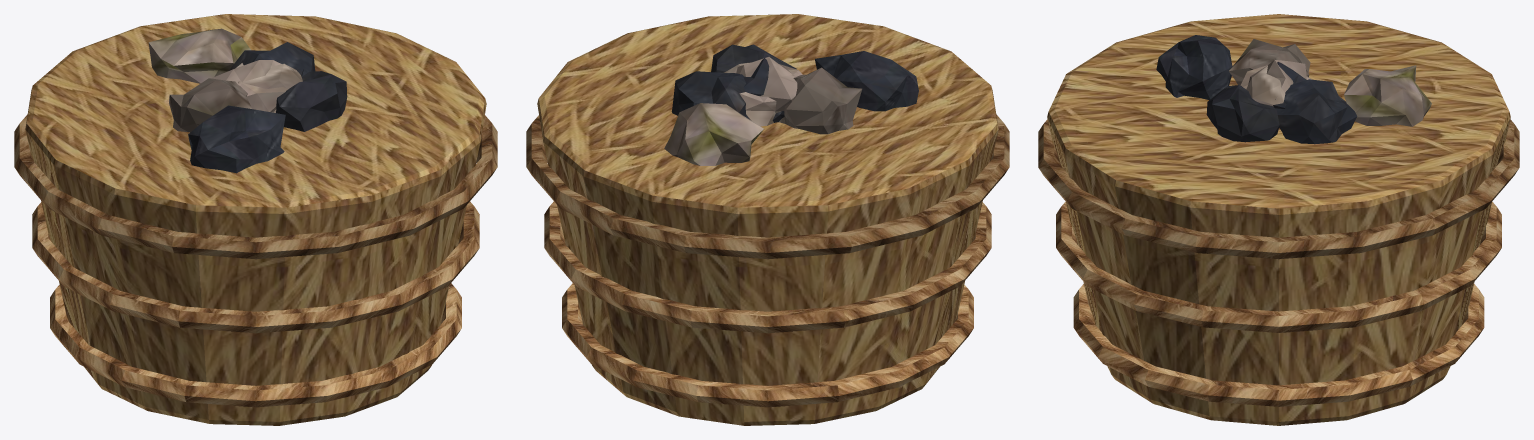
File: ore_basket.glb
The picture shows the model from 3 angles, left to right: view 1: azimuth 30°, elevation 25°; view 2: azimuth 150°, elevation 25°; view 3: azimuth 270°, elevation 25°; orthographic projection.
Parts seen in each view (by area): view 1: model; view 2: model; view 3: model.
Boxes of the visible parts, x1,y1,x2,y2 form: model: (14,14,497,425); model: (526,14,1009,425); model: (1038,14,1519,425).
Bounding box in the file's own units: 0.544 × 0.3611 × 0.5357.
Materials: 8 (8 with a texture image).
